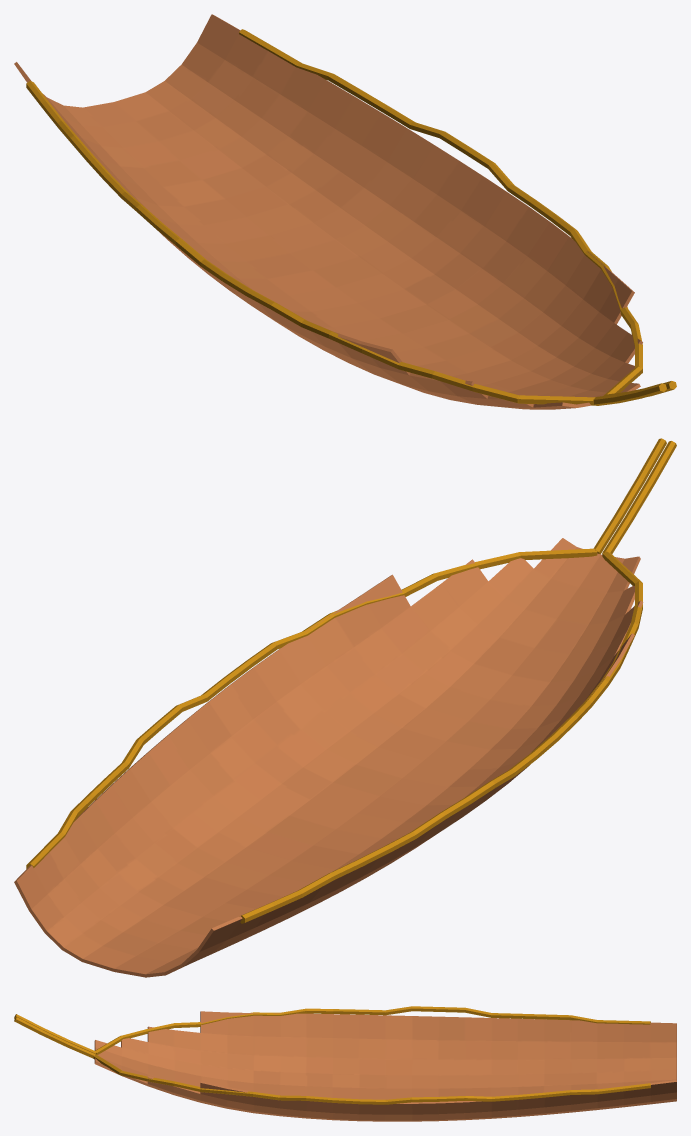
The model's file is upgrade_copper_banded_hull.web-pbr.glb.
3 views of the same model, one above another, from view 1: azimuth 30°, elevation 25°; view 2: azimuth 150°, elevation 25°; view 3: azimuth 270°, elevation 25° (orthographic). The views are drawn at different scales.
Visible parts, largest first — view 1: upgrade_copper_banded_hull_mesh; view 2: upgrade_copper_banded_hull_mesh; view 3: upgrade_copper_banded_hull_mesh.
Part boxes in pixels (x1,y1,x2,y2): upgrade_copper_banded_hull_mesh: (14,14,676,409); upgrade_copper_banded_hull_mesh: (14,438,676,977); upgrade_copper_banded_hull_mesh: (14,1006,676,1121).
Size of the model in its own units: 3.2 by 1.44 by 9.64.
Materials: 1 (1 with a texture image).
